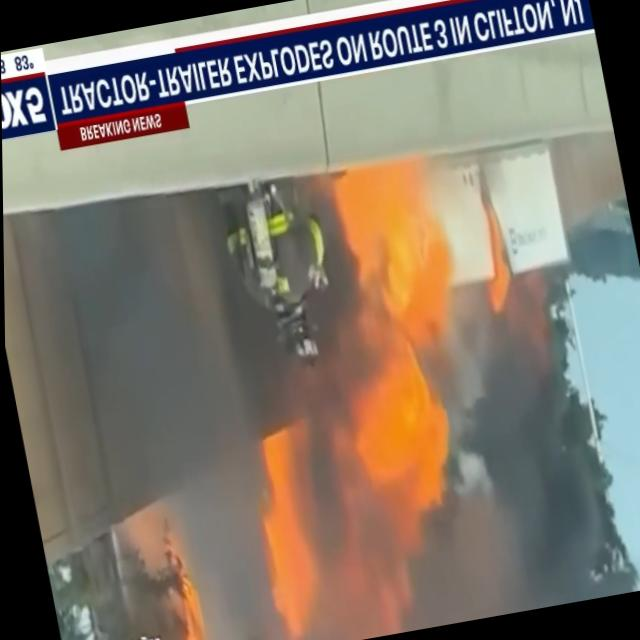Fire: (311, 159, 508, 546), (237, 448, 333, 640), (156, 568, 231, 640)
